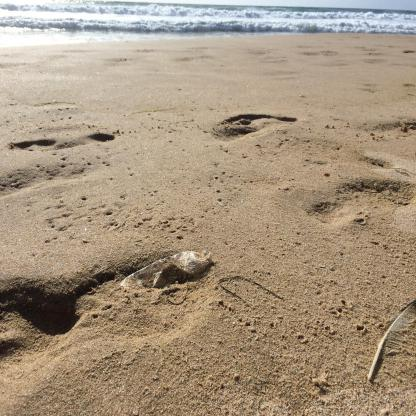Plastic film: (120, 250, 211, 288)
